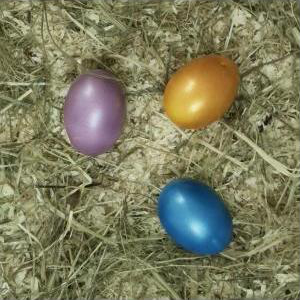egg: (157, 178, 235, 256), (162, 55, 240, 130), (63, 71, 127, 155)
